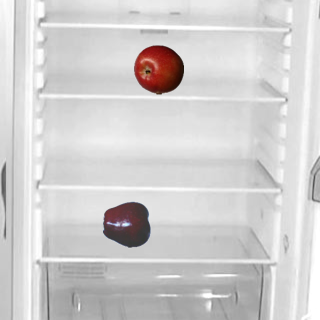Apple Braeburn: (133, 44, 183, 94)
Apple Red Delicious: (102, 199, 152, 249)
